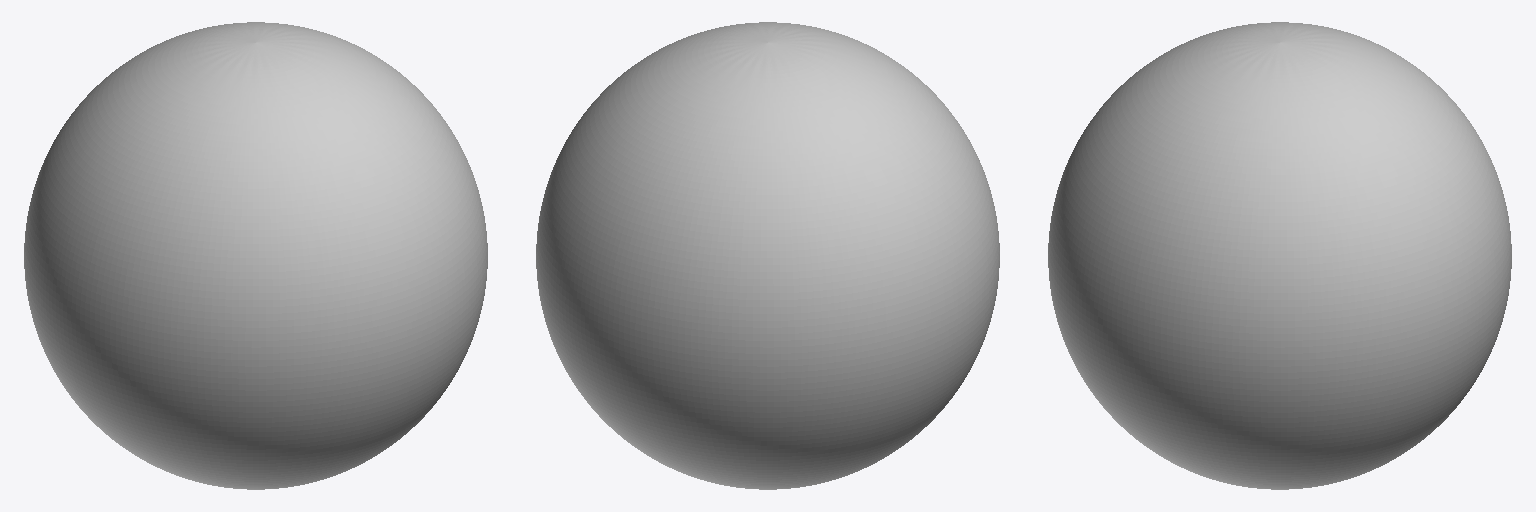
The model's file is Moon.obj.
3 views of the same model, side by side, from view 1: azimuth 30°, elevation 25°; view 2: azimuth 150°, elevation 25°; view 3: azimuth 270°, elevation 25° (orthographic).
Visible parts, largest first — view 1: Moon; view 2: Moon; view 3: Moon.
Boxes of the visible parts, <box> form: Moon: <box>24,22,487,489</box>; Moon: <box>536,22,999,489</box>; Moon: <box>1048,22,1511,489</box>.
Bounding box in the file's own units: 196 × 199 × 196.